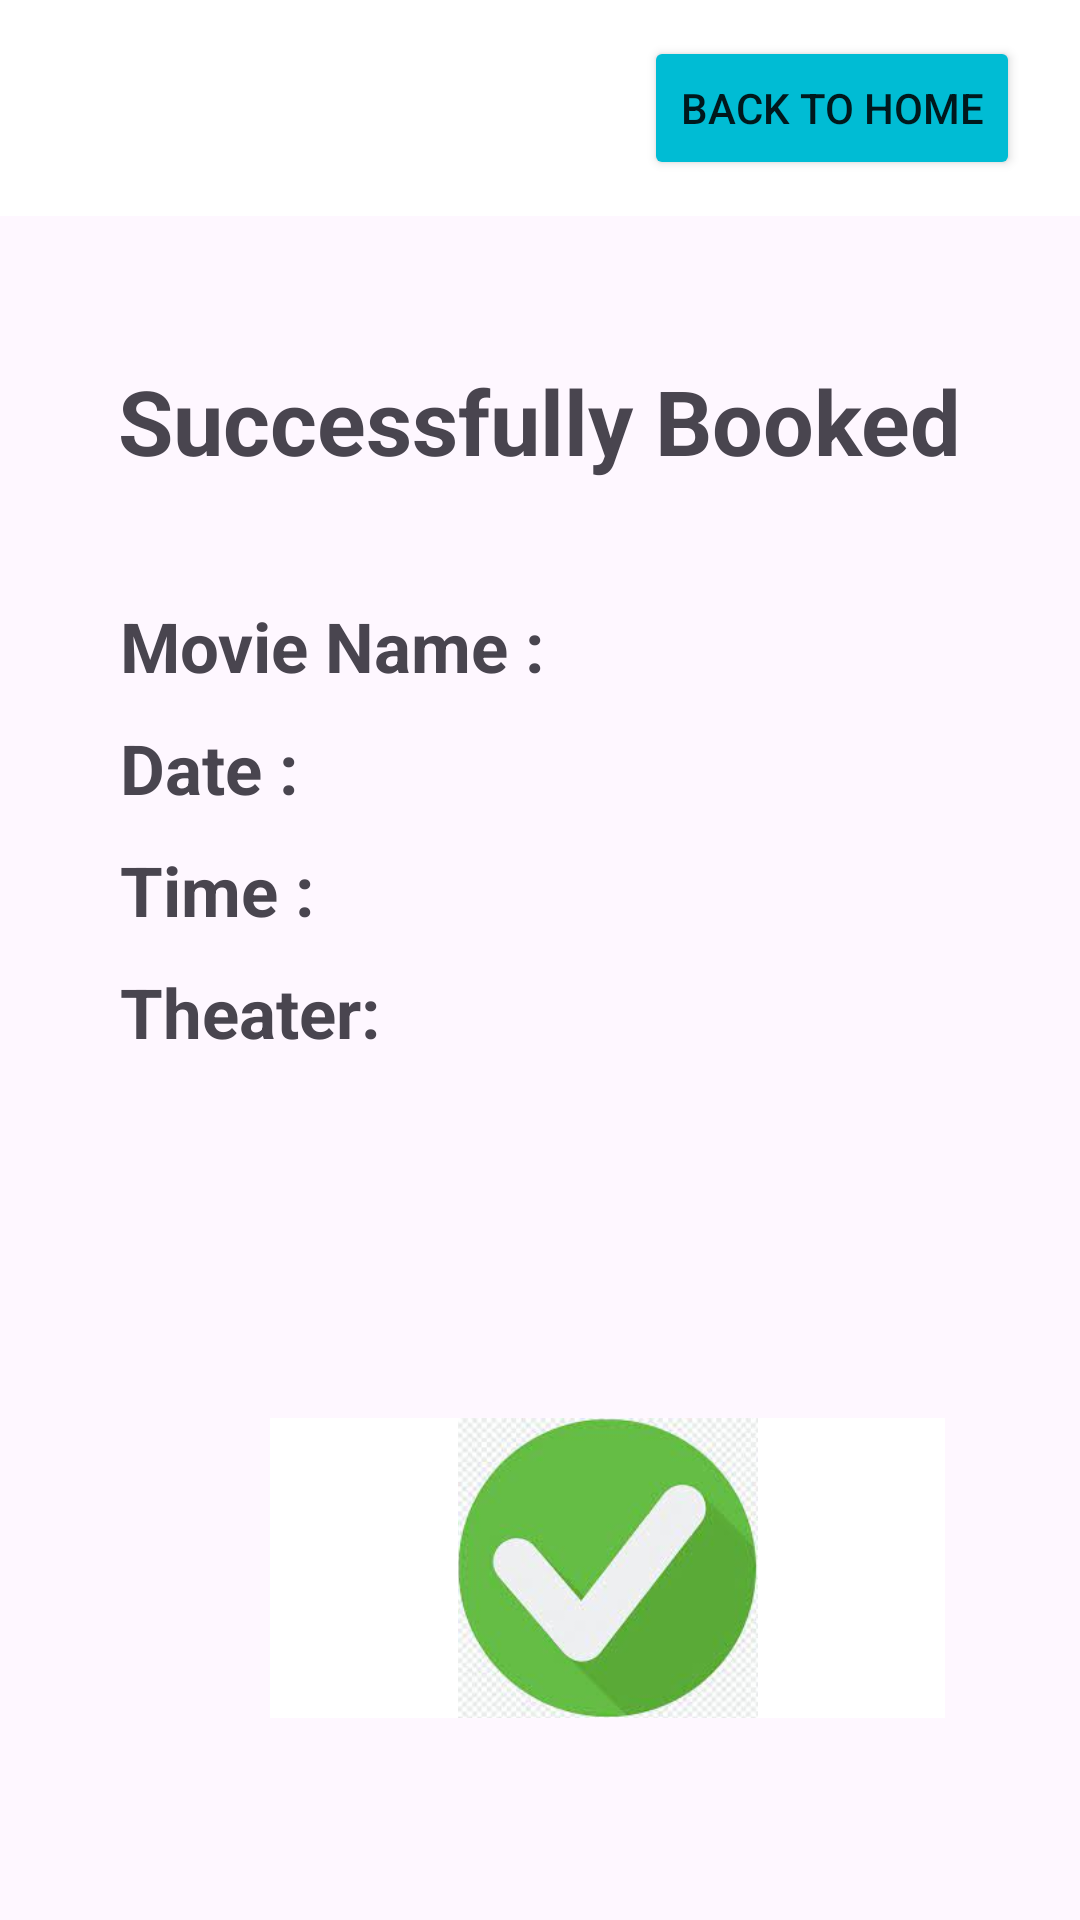

Named icons in this screenshot (1080px x 1920px) and their bounding boxes, bbox=[x1, y1, x2, y2]:
tick: bbox=[458, 1418, 758, 1718]
